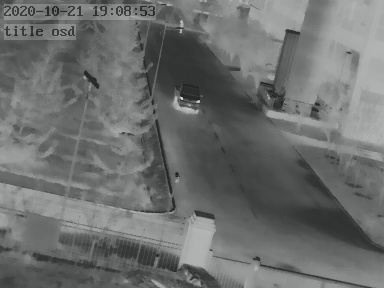person: (179, 19, 185, 34)
vehicle: (172, 84, 202, 114)
